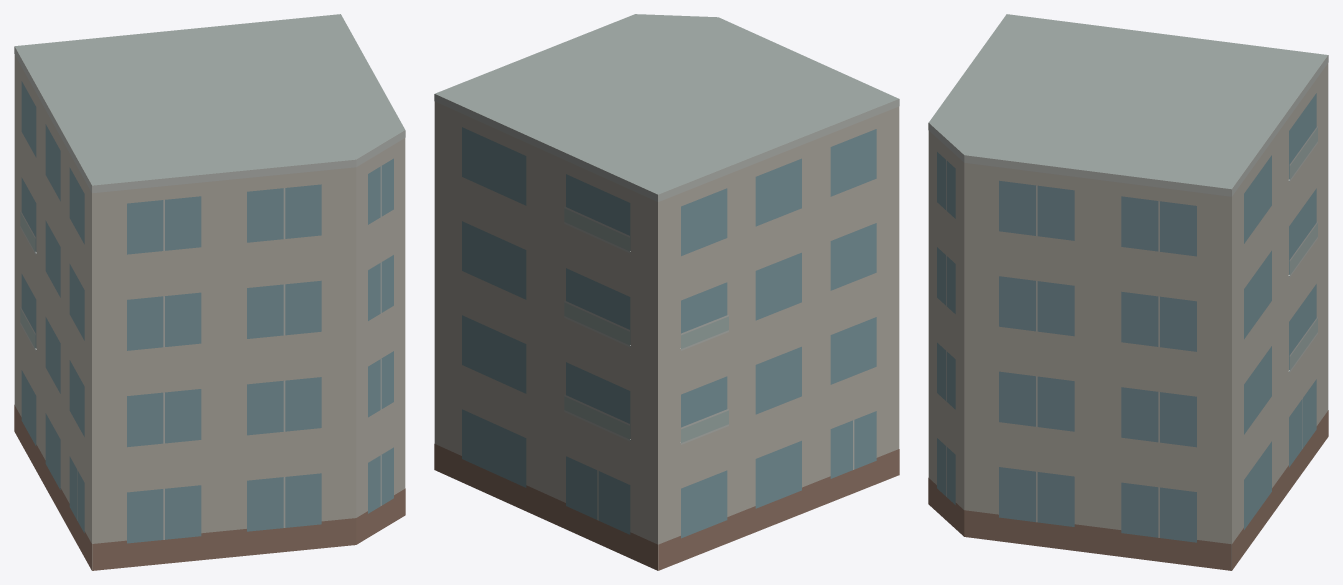
File: survey-upis-32971724.glb
3 views of the same model, side by side, from view 1: azimuth 30°, elevation 25°; view 2: azimuth 150°, elevation 25°; view 3: azimuth 270°, elevation 25° (orthographic). The views are drawn at different scales.
Parts seen in each view (by area): view 1: survey-upis-32971724.tmp; view 2: survey-upis-32971724.tmp; view 3: survey-upis-32971724.tmp.
Part boxes in pixels (bbox=[...]): survey-upis-32971724.tmp: bbox=[14, 14, 405, 570]; survey-upis-32971724.tmp: bbox=[434, 14, 899, 570]; survey-upis-32971724.tmp: bbox=[928, 14, 1328, 570].
Bounding box in the file's own units: 12.12 × 12.3 × 11.69.
